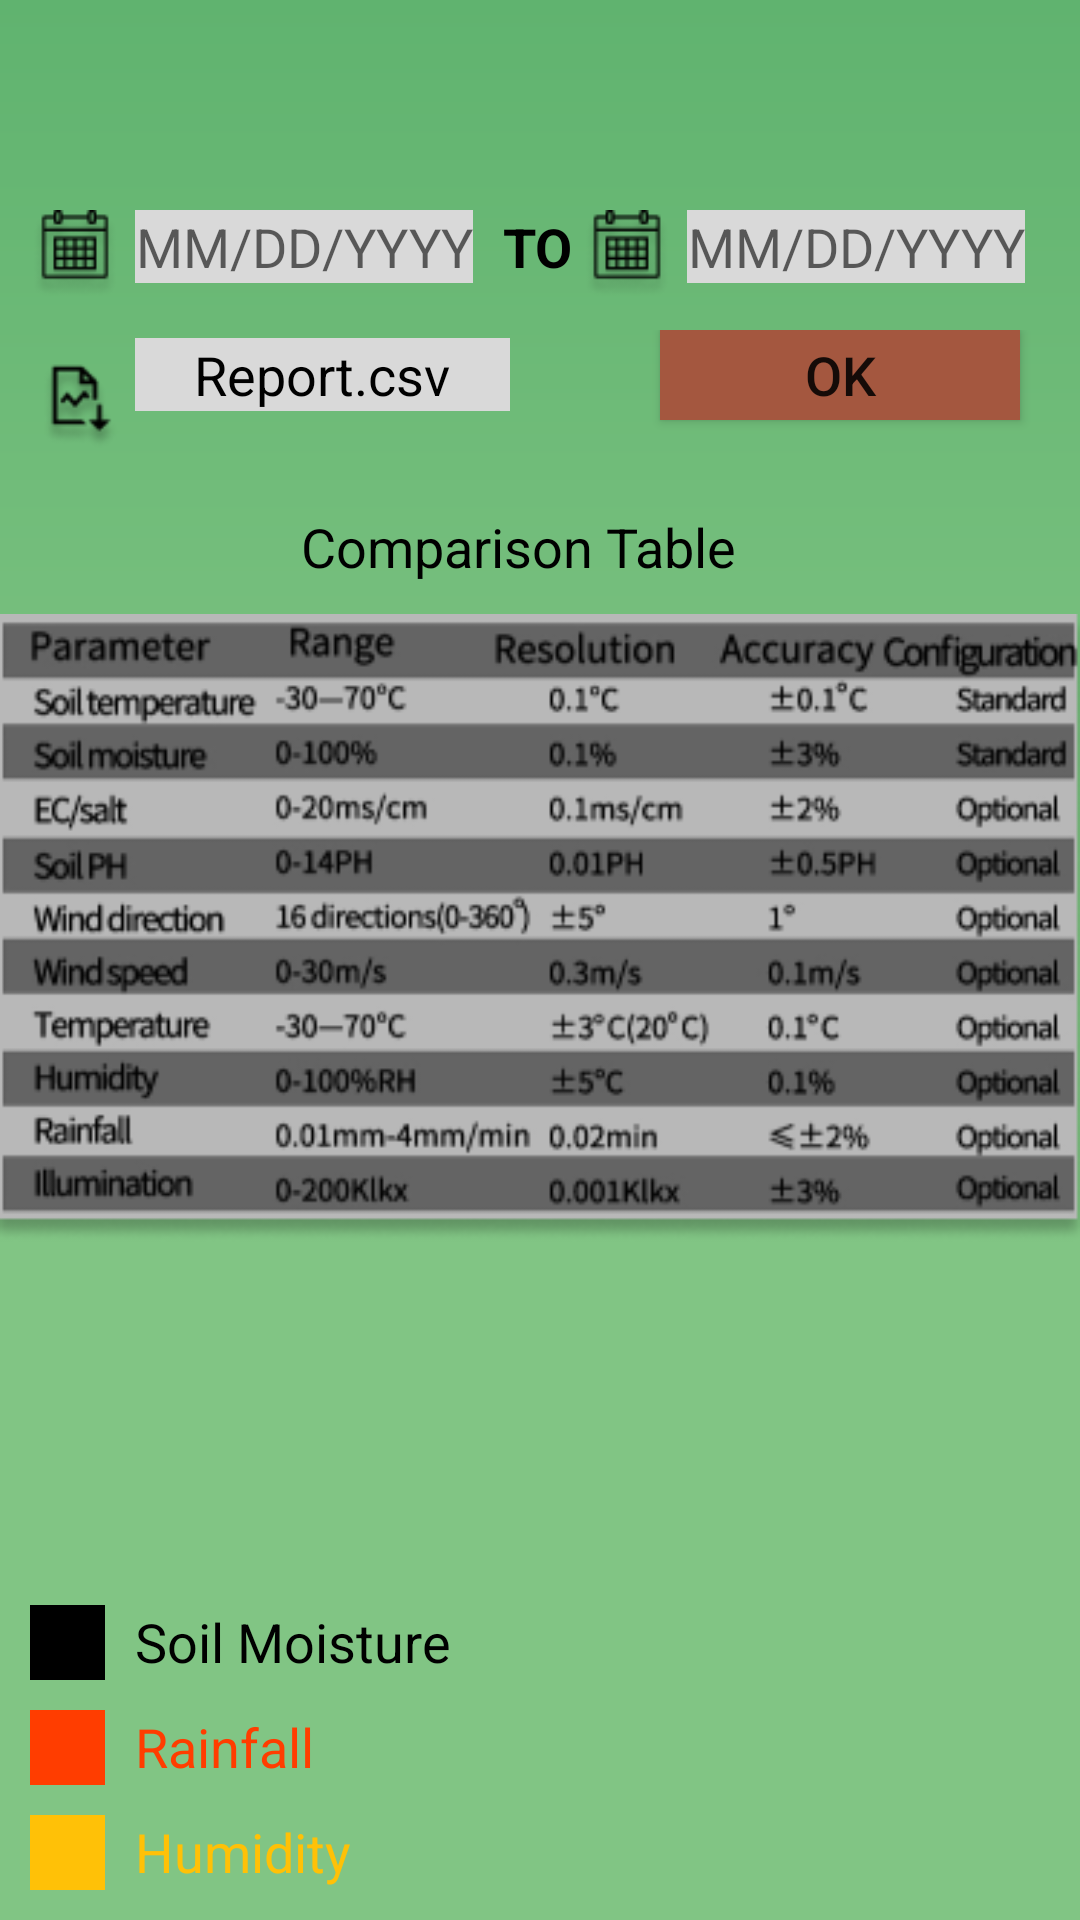

Icons on this 1080x1920 Android screen, each with its box as (left=x1, top=y1, right=x2, bottom=y2):
calendar: (left=41, top=210, right=109, bottom=280), (left=593, top=210, right=661, bottom=280)
